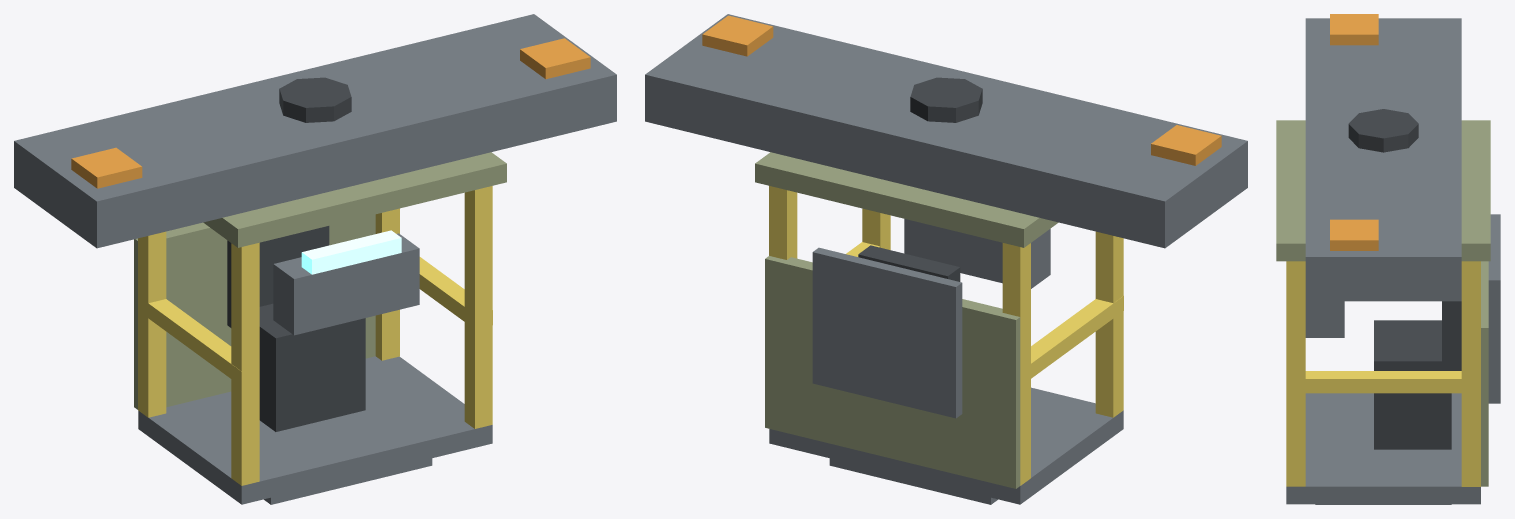
The model's file is mech-hangar-and-battle-frames-loader-torso-d843ea1f__26799.glb.
3 views of the same model, side by side, from view 1: azimuth 30°, elevation 25°; view 2: azimuth 150°, elevation 25°; view 3: azimuth 270°, elevation 25° (orthographic). The views are drawn at different scales.
Parts seen in each view (by area): view 1: loader-torso; view 2: loader-torso; view 3: loader-torso.
Part boxes in pixels (<box>): loader-torso: <box>14,14,616,504</box>; loader-torso: <box>645,14,1247,504</box>; loader-torso: <box>1276,14,1500,504</box>.
Size of the model in its own units: 2.9 by 1.95 by 1.15.
